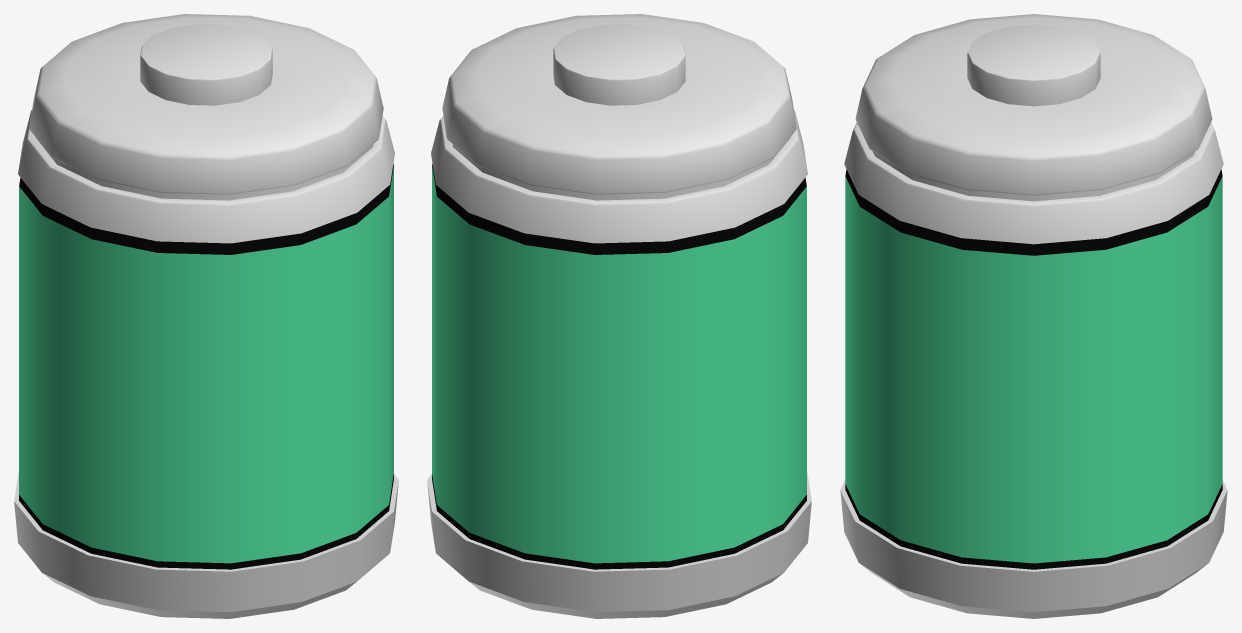
File: EnergyCell_001.fbx
3 renders of one model, left to right at view 1: azimuth 30°, elevation 25°; view 2: azimuth 150°, elevation 25°; view 3: azimuth 270°, elevation 25°, orthographic.
Parts seen in each view (by area): view 1: Cell; view 2: Cell; view 3: Cell.
Part boxes in pixels (x1=…): Cell: x1=14, y1=14, x2=398, y2=618; Cell: x1=427, y1=14, x2=811, y2=618; Cell: x1=840, y1=14, x2=1227, y2=618.
Bounding box in the file's own units: 228 × 320 × 228.
